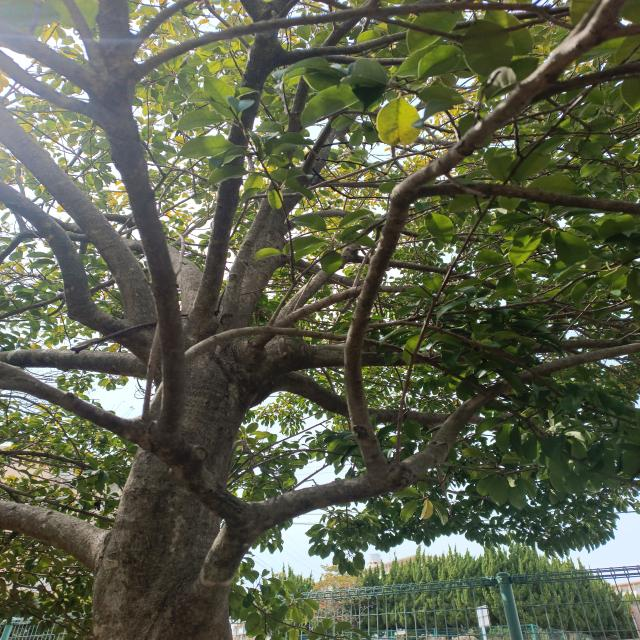Branch: (342, 0, 622, 472), (257, 341, 638, 529), (0, 358, 257, 586), (220, 0, 381, 325), (86, 0, 188, 437), (0, 100, 155, 319), (191, 2, 284, 319), (0, 179, 154, 355), (273, 374, 506, 432), (301, 339, 632, 369), (0, 19, 92, 90)
Twig: (134, 4, 577, 84), (151, 325, 526, 419), (252, 285, 458, 345), (357, 257, 536, 296), (1, 51, 96, 118), (0, 348, 152, 378), (133, 0, 196, 55), (62, 1, 100, 67)
